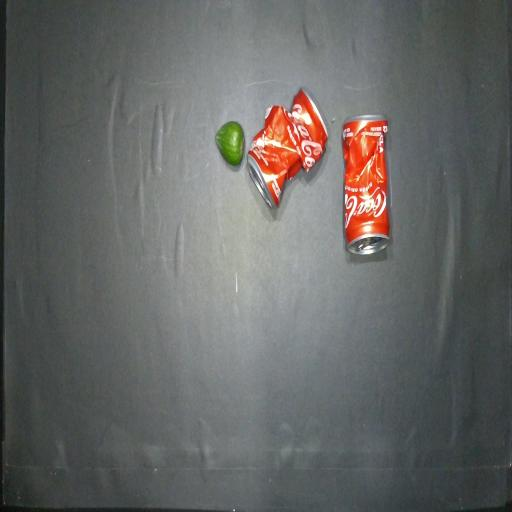higo: (215, 121, 245, 165)
lata_defectuoso: (247, 90, 328, 207), (343, 115, 389, 254)
